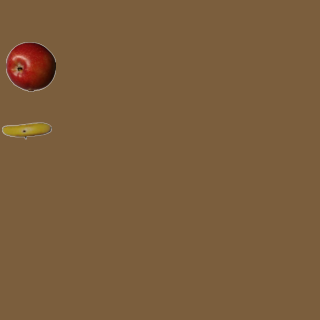Apple Braeburn: (5, 41, 55, 91)
Banana: (1, 105, 51, 155)
